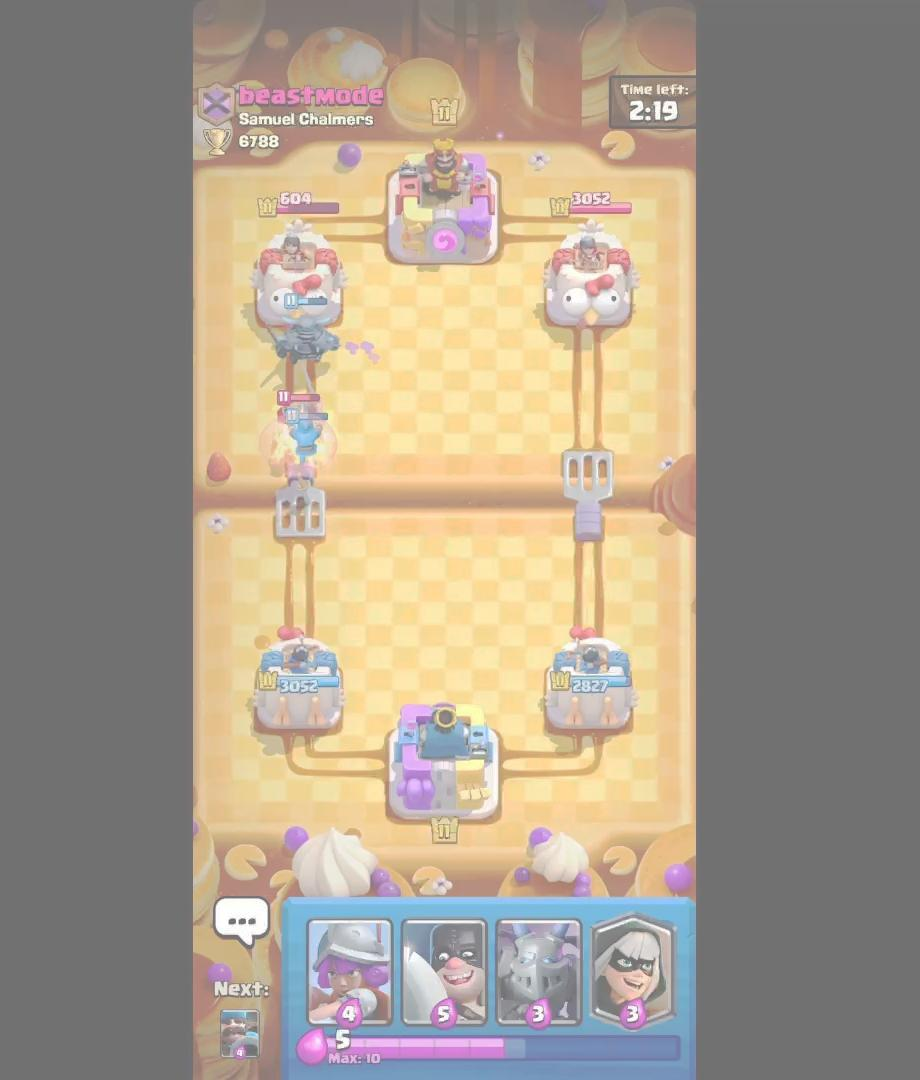Knight: (272, 384, 327, 431)
